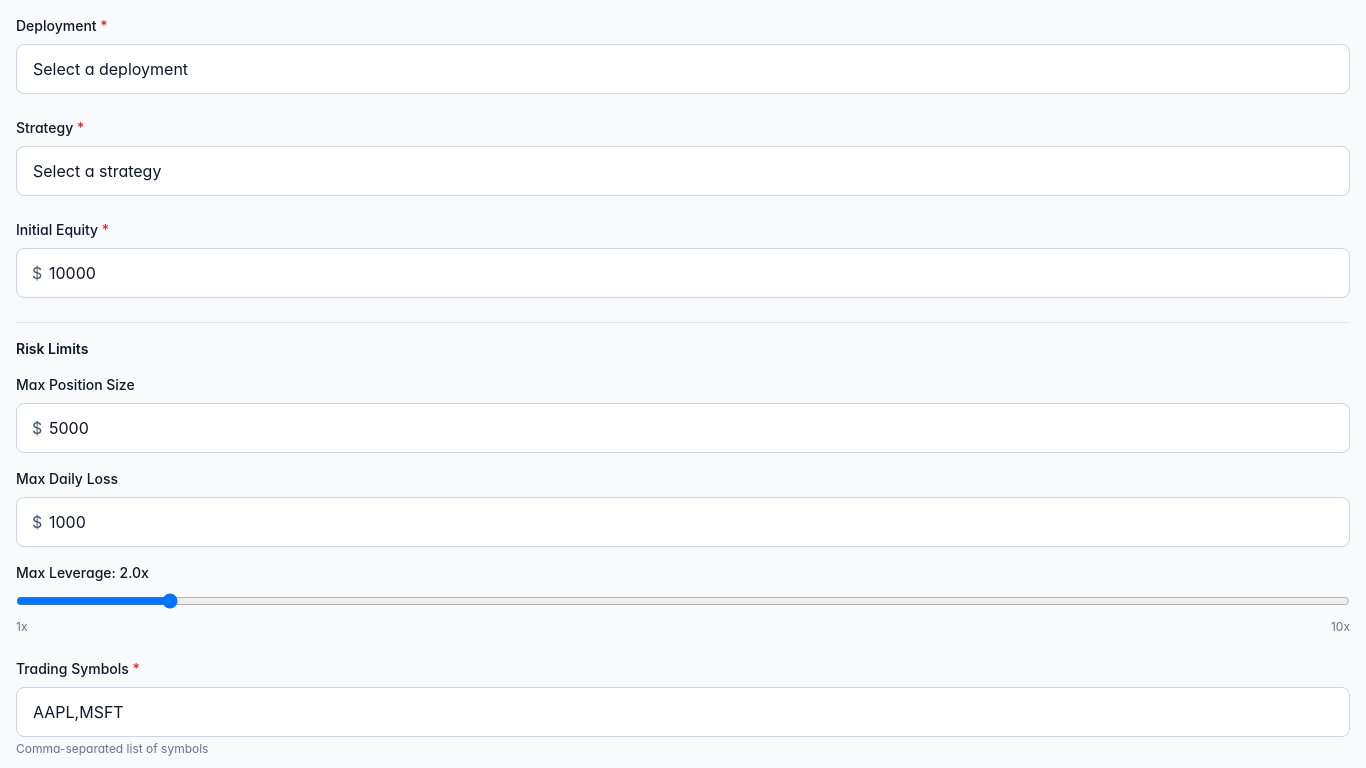
Test: PaperTradingForm › should open strategy picker when strategy button clicked
Click the button with aria-label "select strategy": (97, 171) [16,146,1350,196]
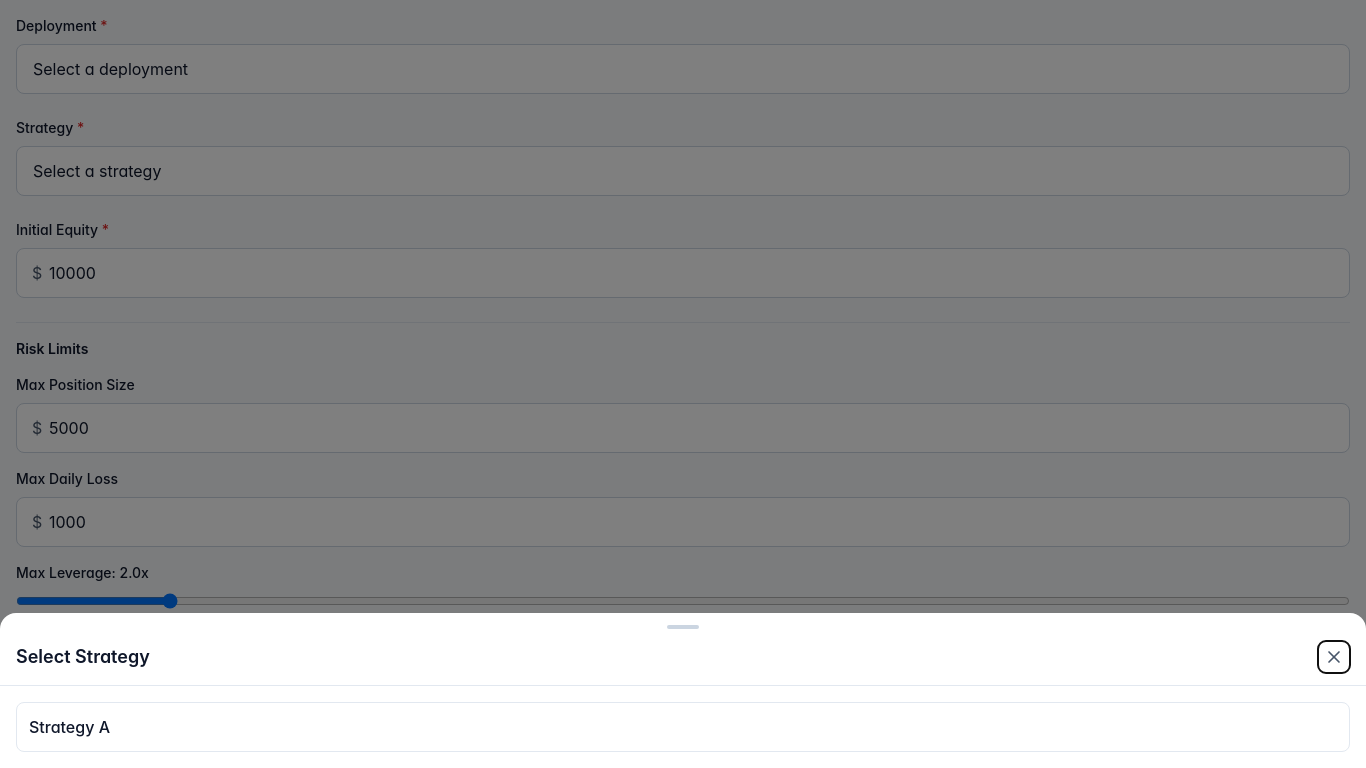
Now the text "Strategy A" is shown, box [29,717,110,737]
